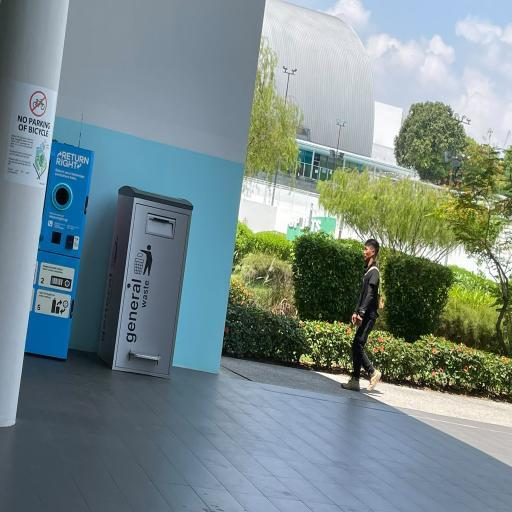person_left: (348, 234, 382, 398)
